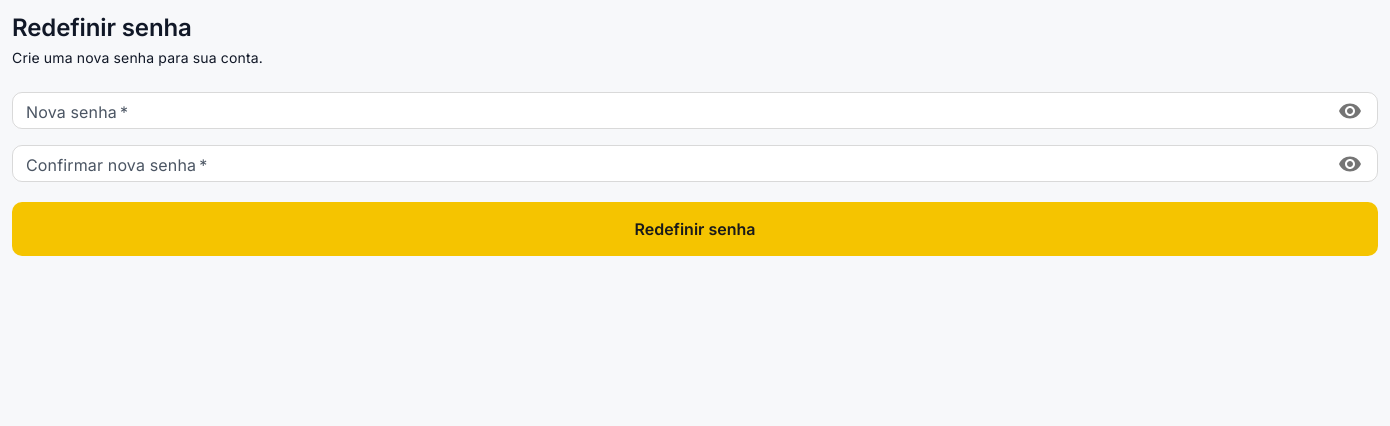
Test: /reset-password — MFA e mapeamento de erros (FEAUTH-01/02/03) › 422 mfa.codigo_invalido revela o campo TOTP e preserva a senha (AC-1.2, EC-1, EC-3)
Type "SenhaForte123" into the password field labelled "Nova senha *" at x=668, y=111, box [12, 92, 1325, 129]
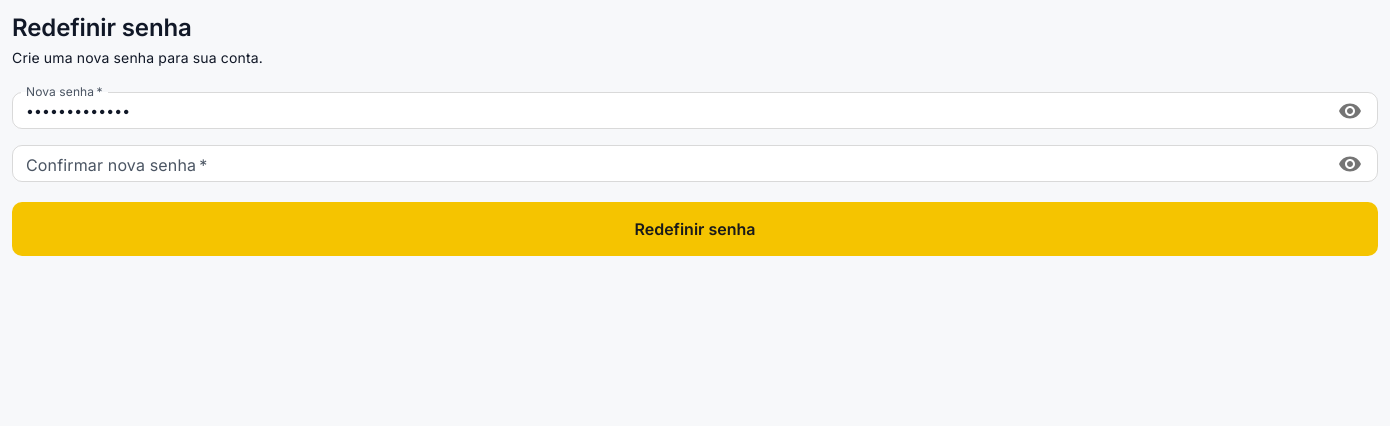
Type "SenhaForte123" into the password field labelled "Confirmar nova senha *" at x=668, y=164, box [12, 145, 1325, 182]
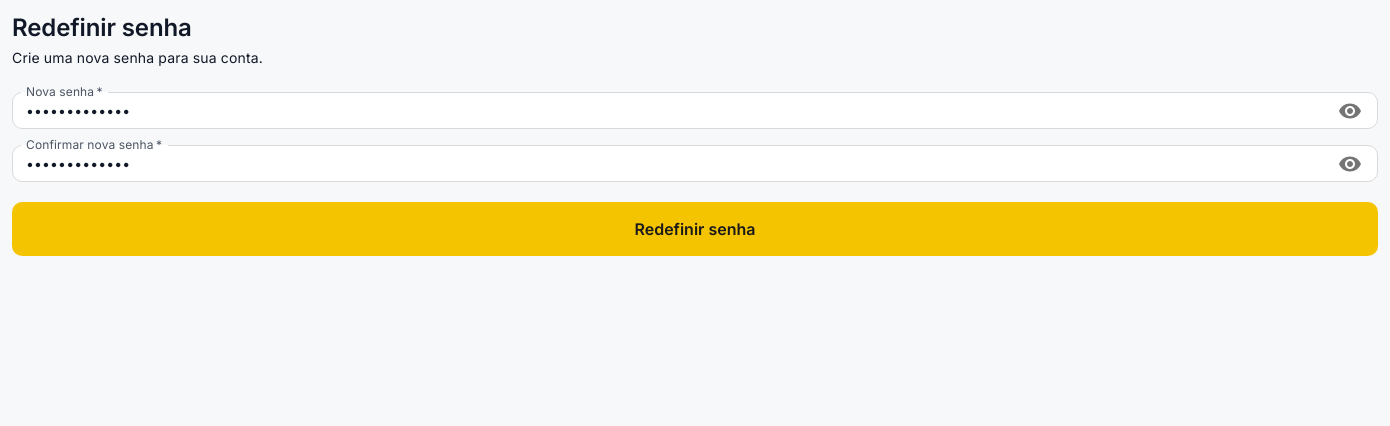
Click the button "Redefinir senha" at x=695, y=229, box [12, 202, 1378, 256]
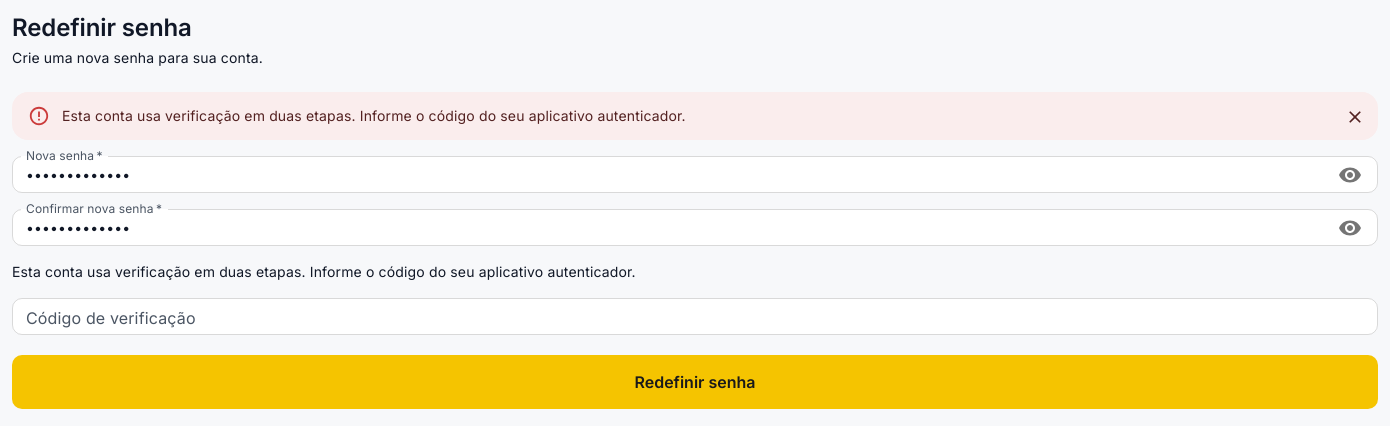
Check: the field labelled "Código de verificação" is shown, box [12, 298, 1378, 335]
Check: the 1st text "verificação em duas etapas" is shown, box [62, 107, 686, 124]
